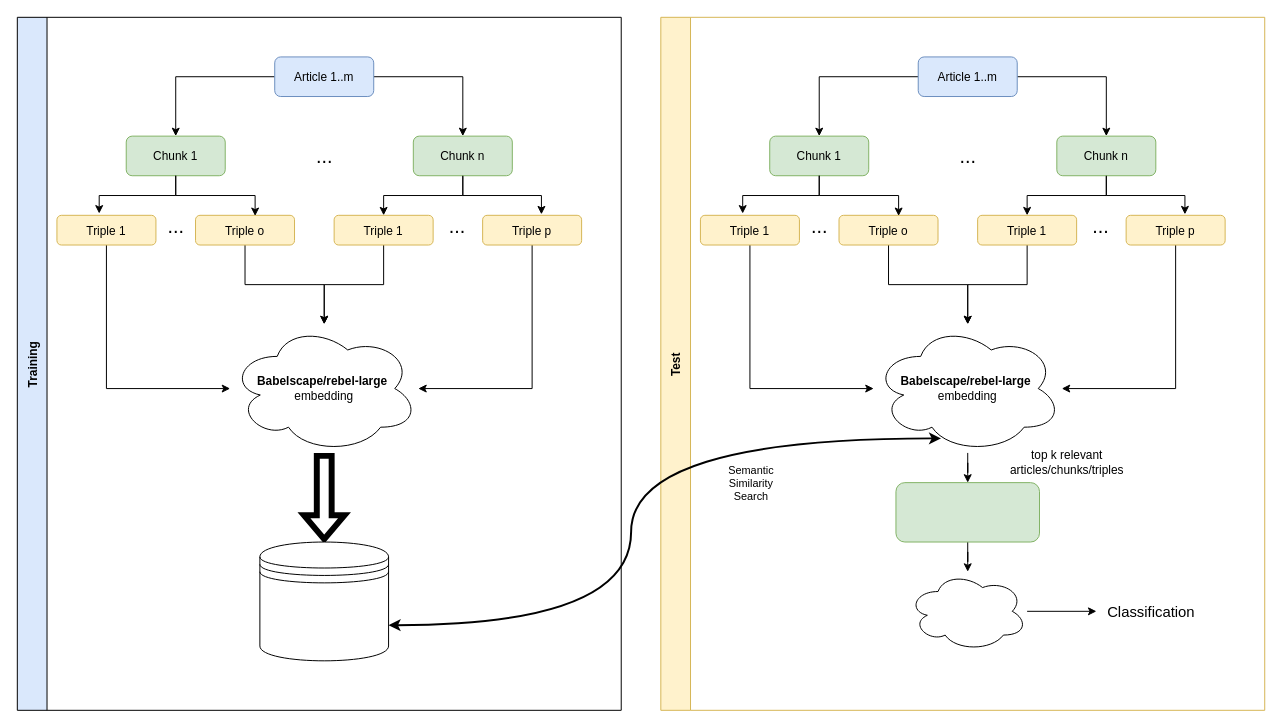
Image size: 1282x728. Some labels were removed from this diagram. The centre of each missing label's shape, as x and y in pixels:
add article/chunk/triple context to prompt: the point at 967,512
FAISS vector database + backrefs to article/chunk/triple: the point at 324,601
LLM: the point at 967,611
